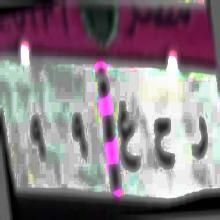7aa: (152, 108, 174, 172)
9: (70, 107, 90, 171), (29, 116, 47, 165)
ghayn: (116, 98, 140, 180)
raa: (188, 109, 208, 165)
